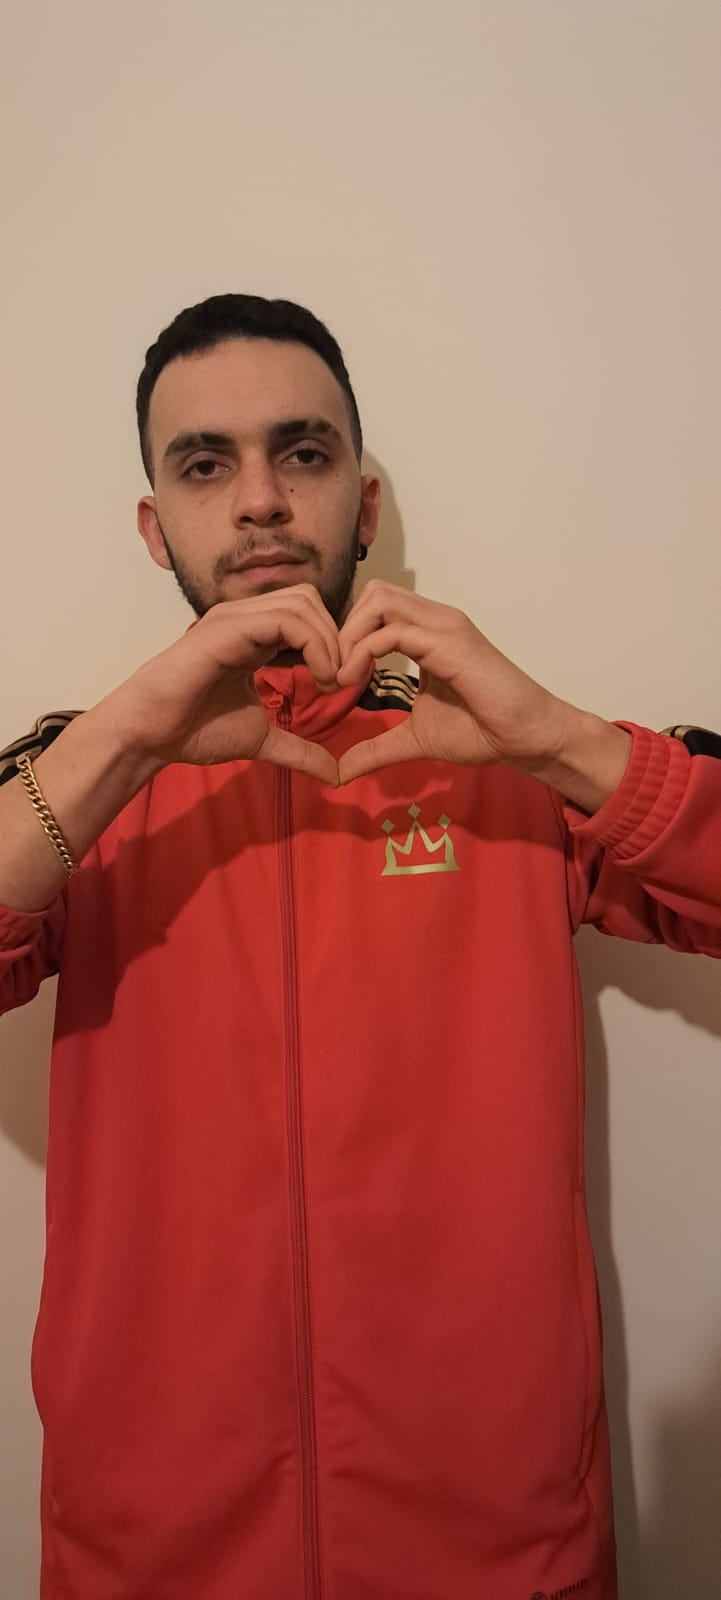cuore: (117, 578, 567, 800)
